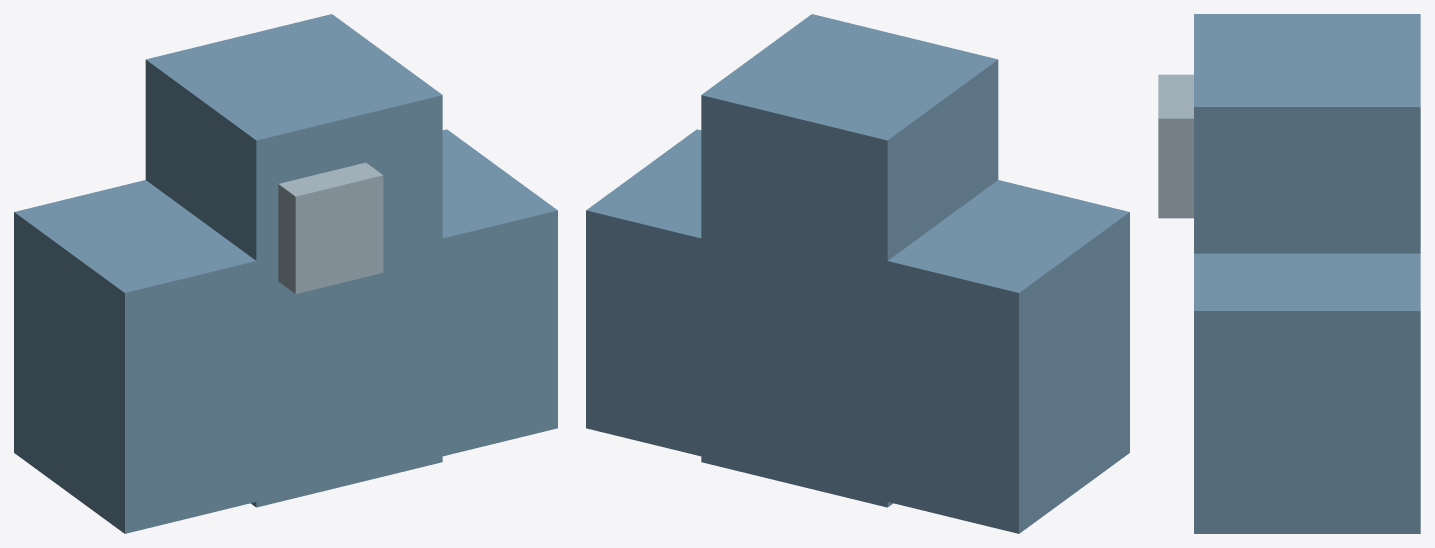
The model's file is material_pigment.glb.
3 renders of one model, left to right at view 1: azimuth 30°, elevation 25°; view 2: azimuth 150°, elevation 25°; view 3: azimuth 270°, elevation 25°, orthographic. The views are drawn at different scales.
Visible parts, largest first — view 1: material_pigment; view 2: material_pigment; view 3: material_pigment.
Part boxes in pixels (bbox=[...]): material_pigment: bbox=[14, 14, 557, 533]; material_pigment: bbox=[586, 14, 1129, 533]; material_pigment: bbox=[1158, 14, 1420, 533].
Size of the model in its own units: 0.79 by 0.64 by 0.405.
